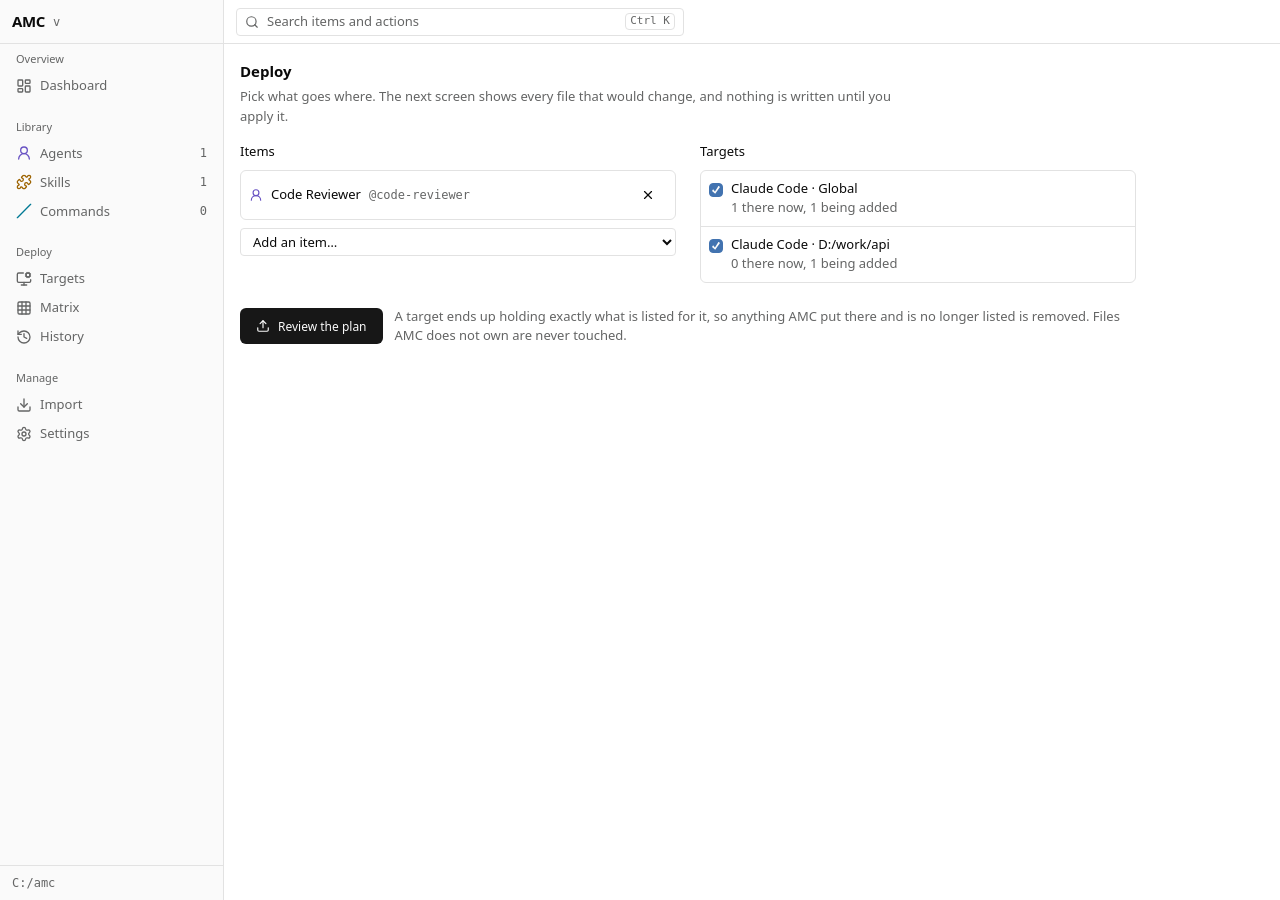
Test: plan dialog (T1.7.3) › refuses to apply while an issue blocks the deploy
Expected: the text "Code Reviewer" is shown, x1=271 y1=185 x2=361 y2=205
Click the button "Review the plan": (311,326) x1=240 y1=308 x2=382 y2=344
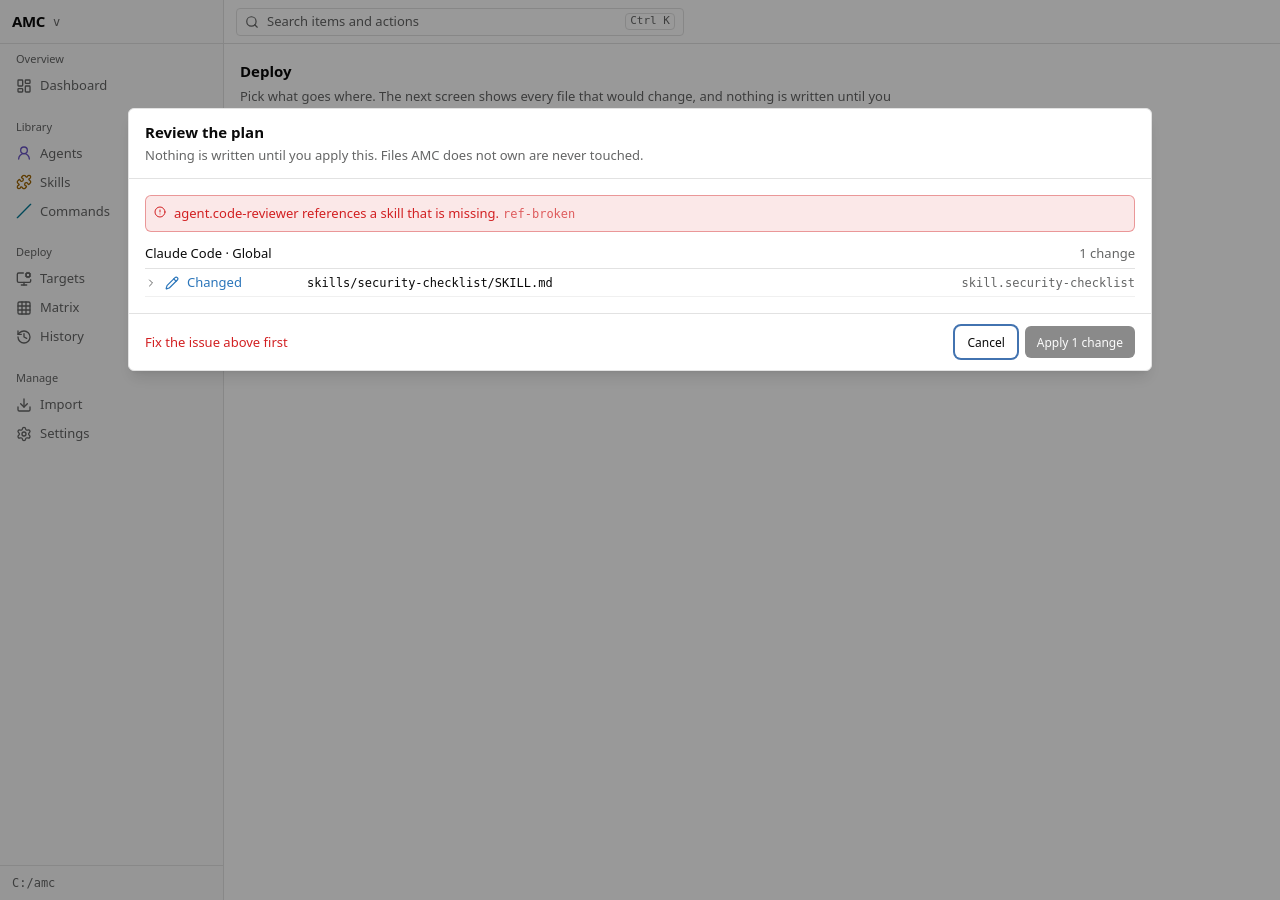
Now the text "references a skill that is missing" is shown, box x1=174 y1=204 x2=499 y2=222
Now the button "Apply 1 change" is disabled, box x1=1025 y1=326 x2=1135 y2=358
